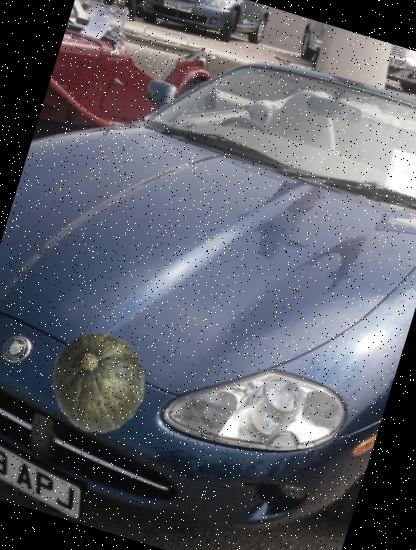Melon: (30, 314, 166, 449)
